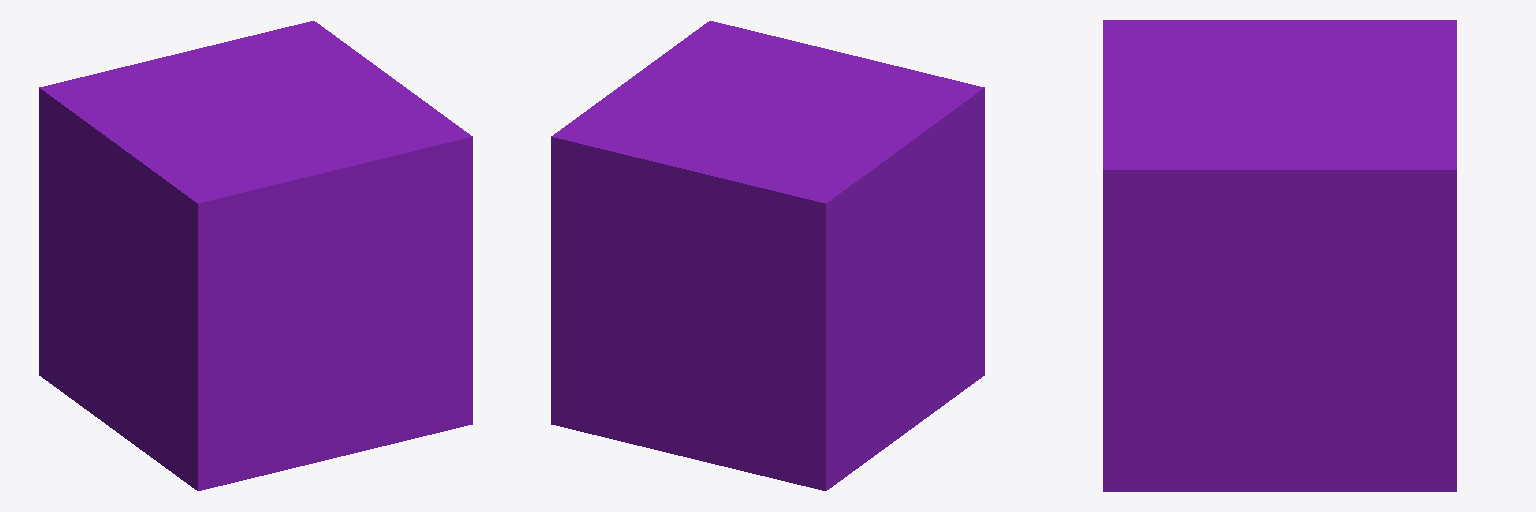
URDF robot description (moving):
<?xml version="1.0" ?>
<robot name="moving">
  <link name="baseLink">
    <contact>
      <lateral_friction value="0.2"/>
      <rolling_friction value="0.0"/>
      <contact_cfm value="0.0"/>
      <contact_erp value="0.2"/>
    </contact>
    <inertial>
      <origin rpy="0 0 0" xyz="0 0 0"/>
       <mass value="0.05"/>
       <inertia ixx="1" ixy="0" ixz="0" iyy="1" iyz="0" izz="1"/>
    </inertial>
    <visual>
      <origin rpy="0 0 0" xyz="0 0 0.026"/>
      
      <geometry> 
				<mesh filename="cube.obj" scale="0.05 0.05 0.05"/>
      </geometry>
       <material name="violet">
        <color rgba="0.59 0.19 0.79 1.0"/>
      </material> 
    </visual>
    <collision>
      <origin rpy="0 0 0" xyz="0 0 0.026"/>
      <geometry> 
				<mesh filename="cube.obj" scale="0.05 0.05 0.05"/>
      </geometry>
    </collision>
  </link>
</robot>

--- What the picture shows (computed from the rendered views, not written in the file) ---
Views: 3 orthographic renders of the robot side by side, from view 1: azimuth 30°, elevation 25°; view 2: azimuth 150°, elevation 25°; view 3: azimuth 270°, elevation 25°.
Model moving with 1 links and 0 joints (none), rooted at baseLink, posed all joints at 0.
Links seen in each view (by area): view 1: baseLink; view 2: baseLink; view 3: baseLink.
Boxes of the visible links, x1,y1,x2,y2 form: baseLink: [39, 21, 472, 490]; baseLink: [551, 21, 984, 490]; baseLink: [1103, 20, 1456, 491].
Bounding box of the posed robot: 0.1 × 0.1 × 0.1 m (x, y, z).
1 mesh visuals loaded from 1 distinct referenced files (1 OBJ).
